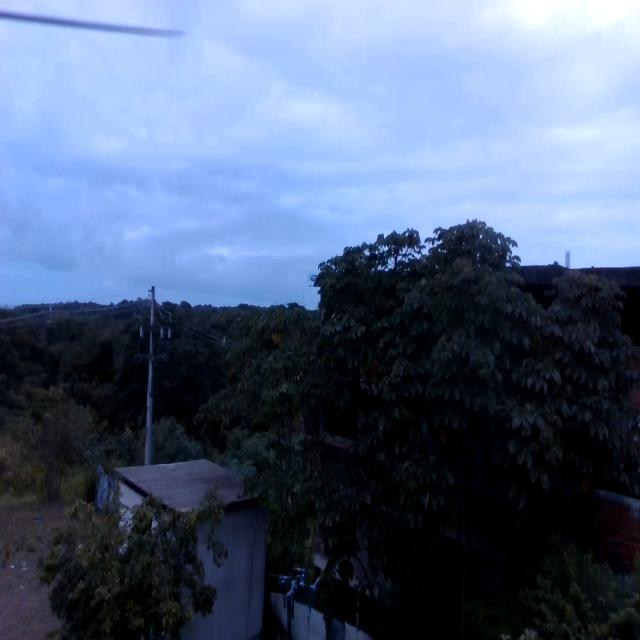-uav-: (250, 542, 344, 640)
